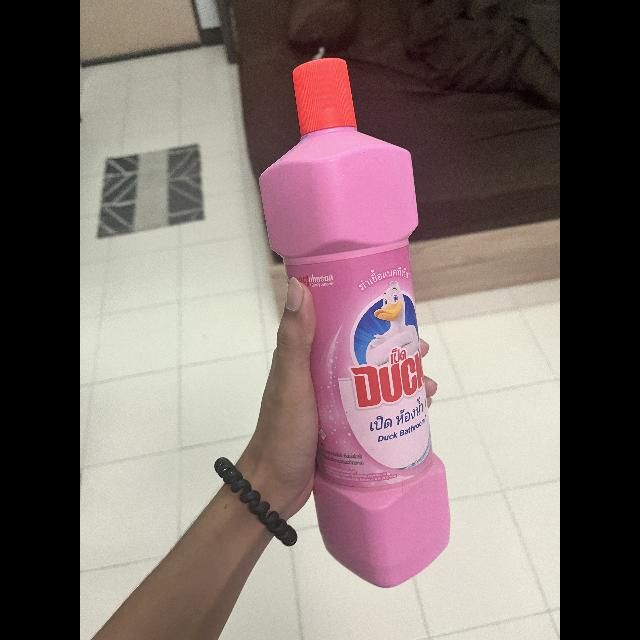chemical_plastic_bottle: (254, 61, 456, 602)
